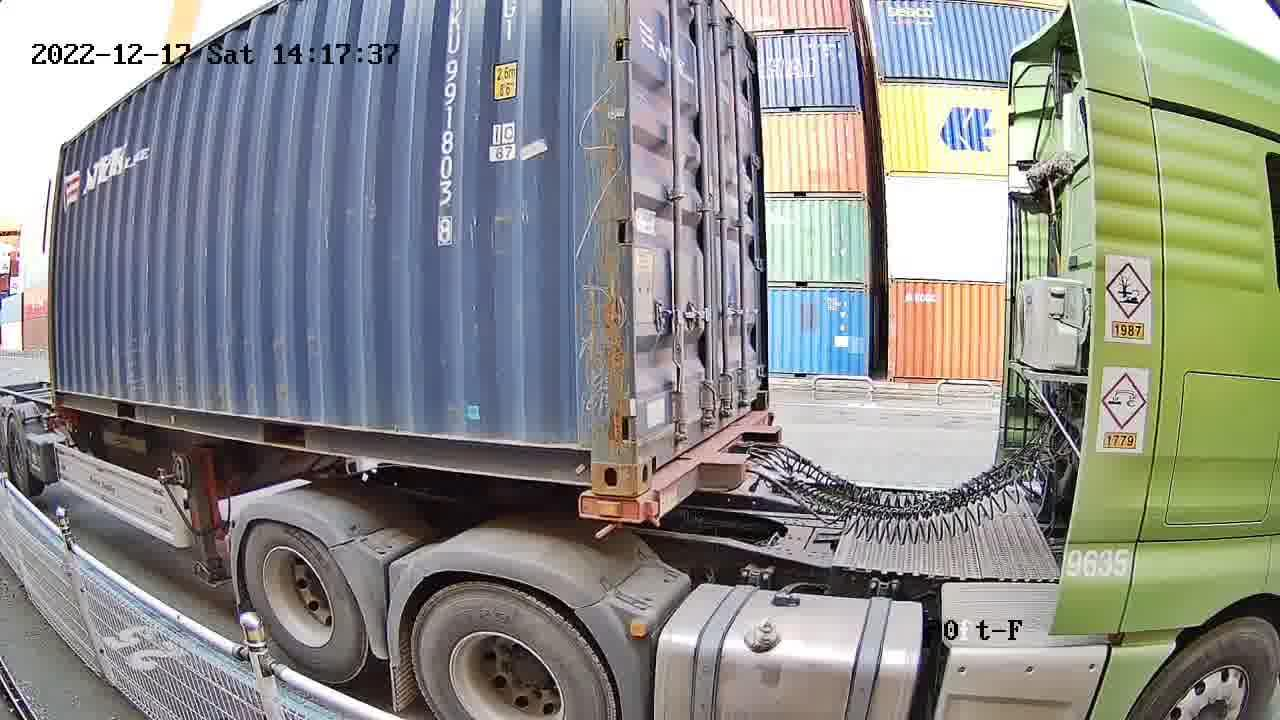Chassis: (640, 411, 774, 528)
Cone: (579, 494, 644, 536)
Hole_L: (636, 401, 678, 497)
Hole_R: (549, 417, 638, 496)
Tire: (413, 584, 612, 716), (243, 522, 370, 675)
